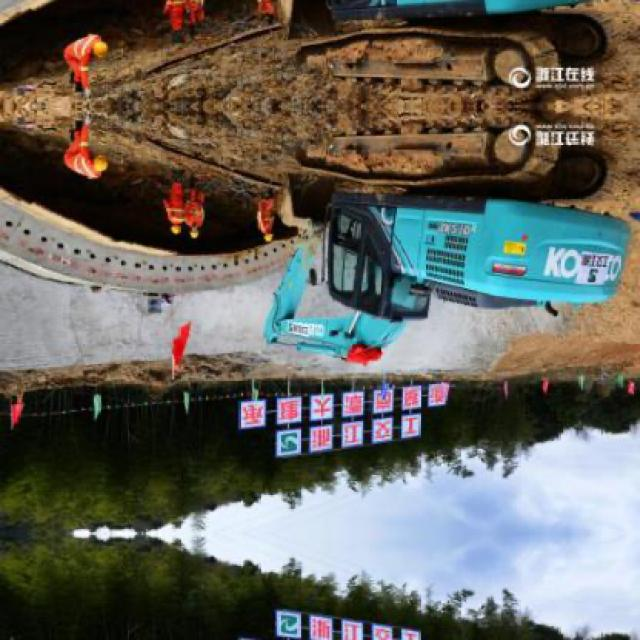con casco: (86, 151, 114, 192)
